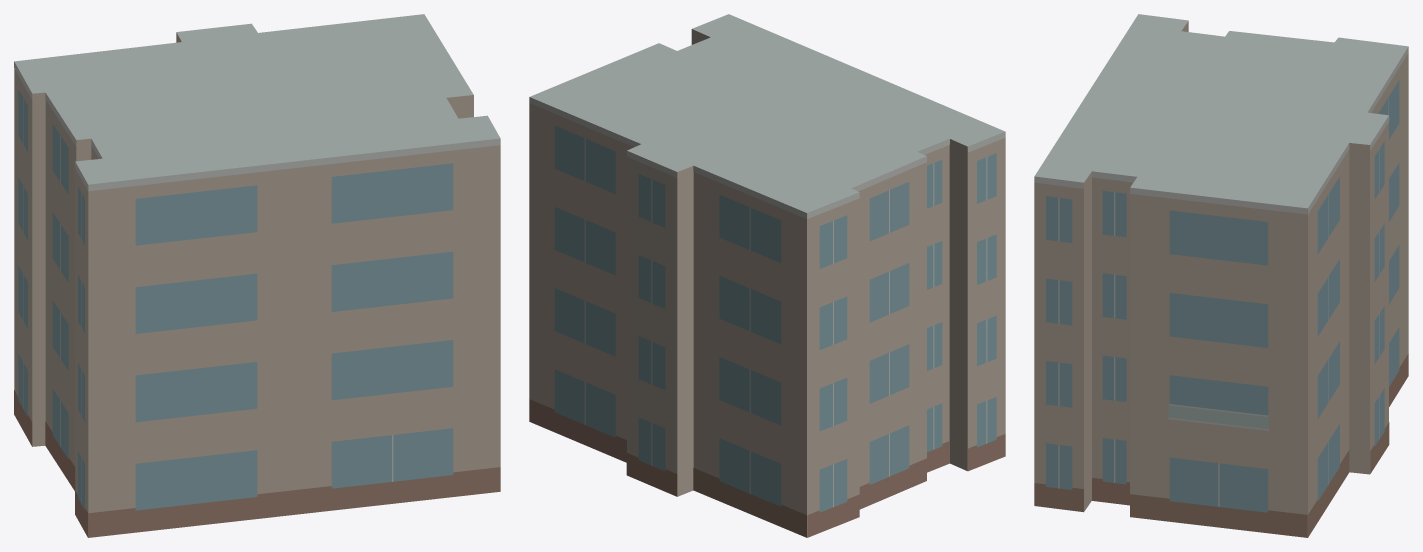
The model's file is survey-upis-32985892.glb.
3 views of the same model, side by side, from view 1: azimuth 30°, elevation 25°; view 2: azimuth 150°, elevation 25°; view 3: azimuth 270°, elevation 25° (orthographic). The views are drawn at different scales.
Parts seen in each view (by area): view 1: survey-upis-32985892.tmp; view 2: survey-upis-32985892.tmp; view 3: survey-upis-32985892.tmp.
Part boxes in pixels (x1,y1,x2,y2): survey-upis-32985892.tmp: (14, 14, 500, 537); survey-upis-32985892.tmp: (529, 14, 1005, 537); survey-upis-32985892.tmp: (1034, 14, 1408, 537).
Size of the model in its own units: 16.52 by 13.05 by 13.45.
